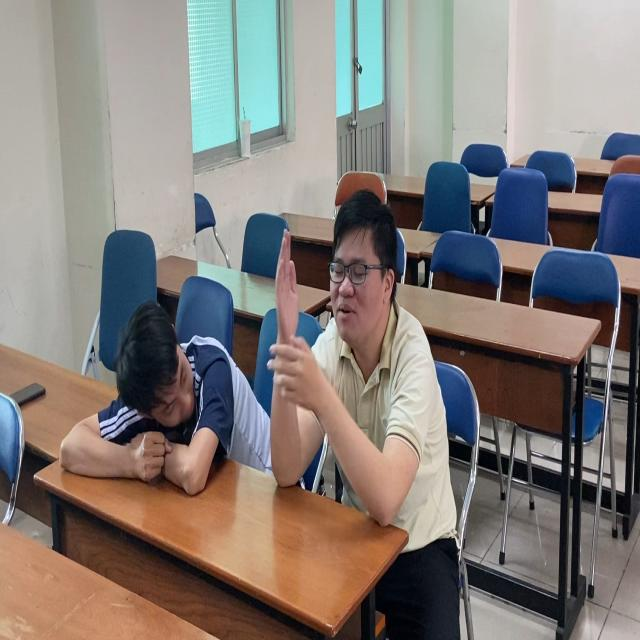raise_hand: (265, 182, 456, 529)
sleep: (61, 297, 254, 500)
